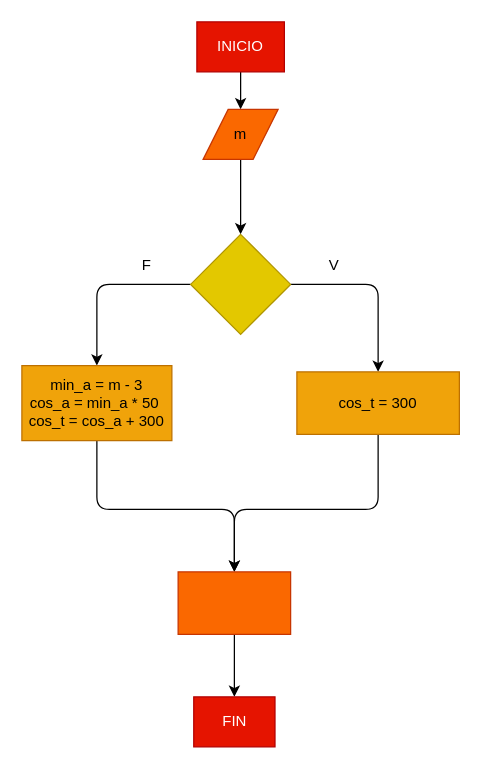
The diagram is 481 pixels wide and 769 high, and some of its shapes have lost their labels. Each missing label, with the centre of its shape:
m <= 3: [240,283]
m, cos_t: [234,602]
